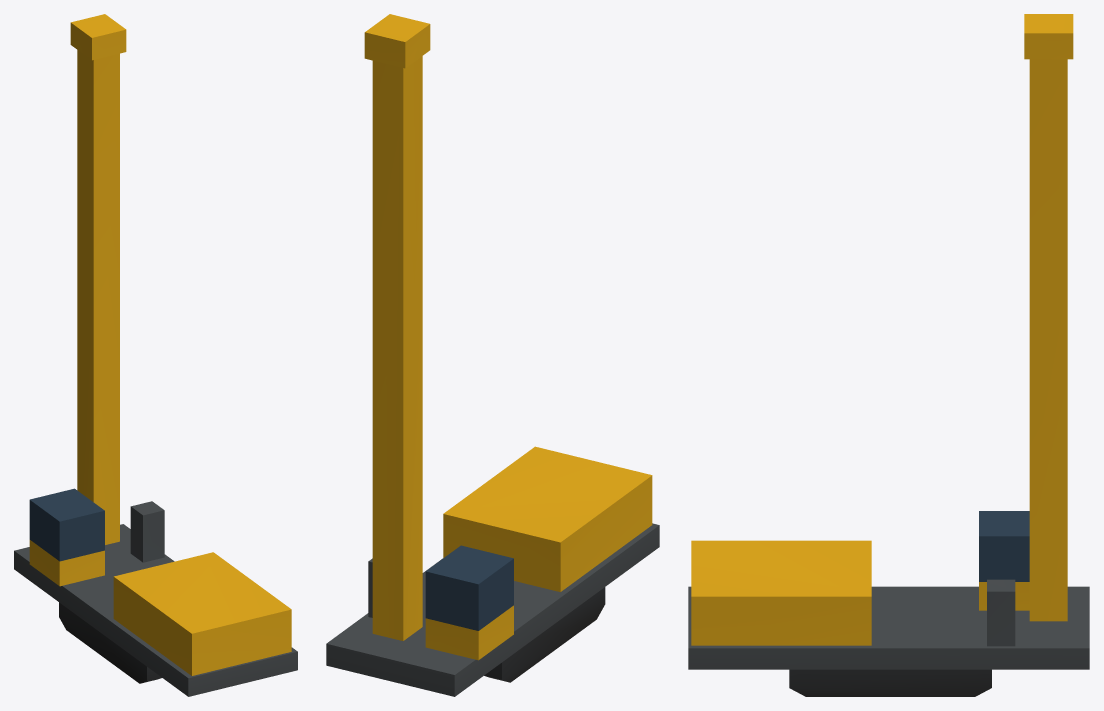
The picture shows the model from 3 angles, left to right: view 1: azimuth 30°, elevation 25°; view 2: azimuth 150°, elevation 25°; view 3: azimuth 270°, elevation 25°; orthographic projection. The views are drawn at different scales.
Parts seen in each view (by area): view 1: base, mast; view 2: base, mast; view 3: base, mast.
Part boxes in pixels (x1,y1,x2,y2): base: (14, 488, 297, 696); mast: (70, 14, 126, 544); base: (326, 446, 659, 696); mast: (364, 14, 430, 640); base: (688, 511, 1089, 696); mast: (1024, 14, 1073, 621).
Size of the model in its own units: 4.7 by 22.7 by 12.7.
